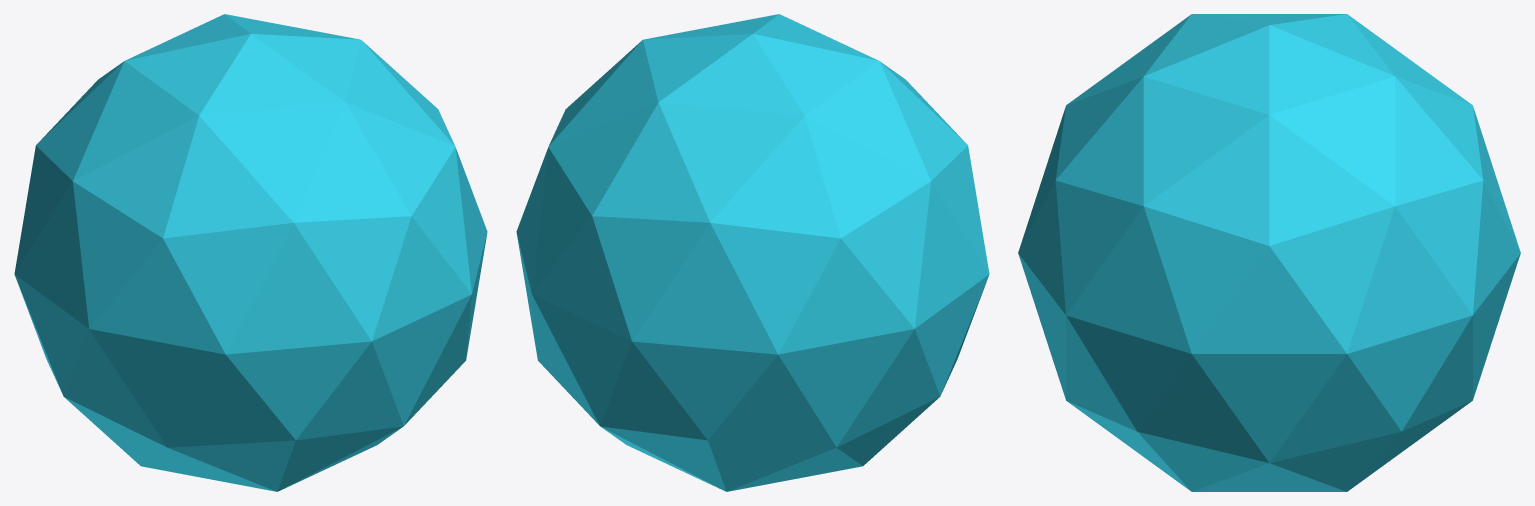
File: crystal_orb.glb
The picture shows the model from 3 angles, left to right: view 1: azimuth 30°, elevation 25°; view 2: azimuth 150°, elevation 25°; view 3: azimuth 270°, elevation 25°; orthographic projection. The views are drawn at different scales.
Visible parts, largest first — view 1: crystal_orb; view 2: crystal_orb; view 3: crystal_orb.
Boxes of the visible parts, box(x1,y1,x2,y2) form: crystal_orb: box(14, 14, 487, 491); crystal_orb: box(516, 14, 989, 491); crystal_orb: box(1018, 14, 1520, 491).
Bounding box in the file's own units: 1.75 × 1.84 × 1.84.
